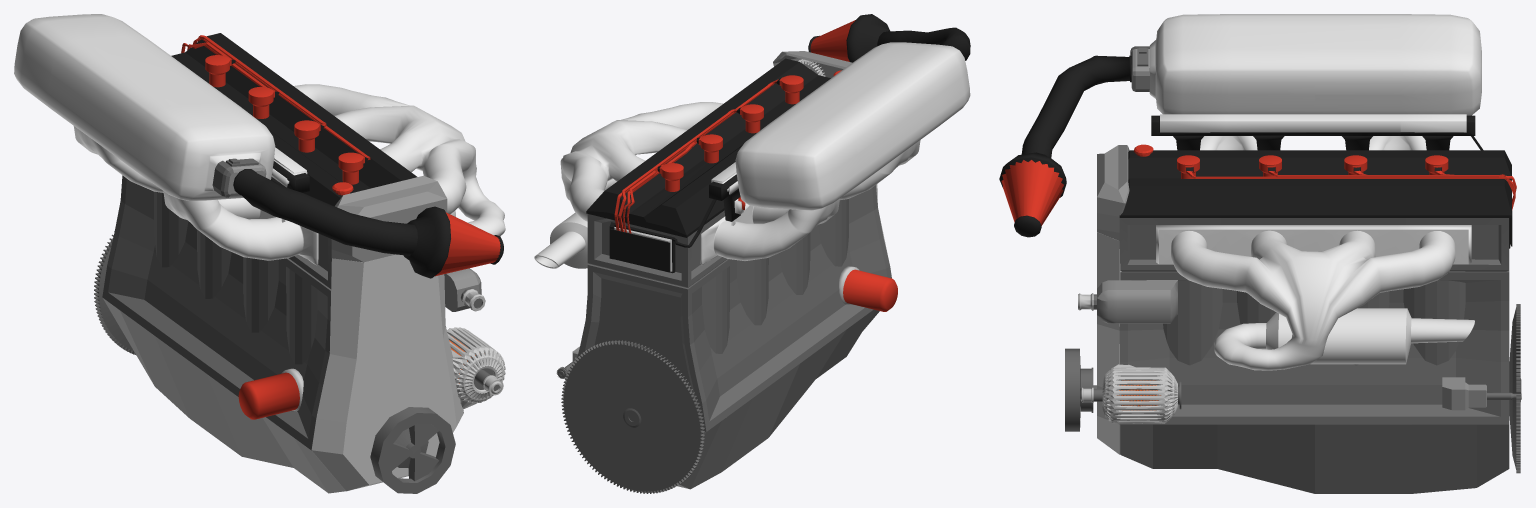
Rendered from 4L.blend-8v.fbx.
3 views of the same model, side by side, from view 1: azimuth 30°, elevation 25°; view 2: azimuth 150°, elevation 25°; view 3: azimuth 270°, elevation 25° (orthographic). The views are drawn at different scales.
Parts seen in each view (by area): view 1: ColetorDeAr, Bloco, capa da correia dentada, filtroDeAr, coletor escape, tambpa do motor, carter, Cylinder, capa da correia de cima, carcaa alternador, filtro de leo, cabo de vela (+10 smaller); view 2: Bloco, ColetorDeAr, VolanteDoMotor, tambpa do motor, coletor escape, carter, cabeçote, filtroDeAr, mdulo eletronico, filtro de leo, cabo de vela, trilho de injetores (+5 smaller); view 3: Bloco, ColetorDeAr, coletor escape, tambpa do motor, carter, trilho de injetores, filtroDeAr, cabeçote, carcaa alternador, BOMBA agua, capa da correia dentada, capa da correia de cima (+6 smaller).
Boxes of the visible parts, x1,y1,x2,y2 form: ColetorDeAr: [14, 14, 318, 265]; Bloco: [102, 175, 463, 450]; capa da correia dentada: [311, 254, 463, 491]; filtroDeAr: [233, 169, 503, 278]; coletor escape: [294, 84, 505, 235]; tambpa do motor: [171, 33, 416, 206]; carter: [103, 298, 345, 493]; Cylinder: [370, 407, 455, 493]; capa da correia de cima: [331, 175, 447, 262]; carcaa alternador: [446, 327, 505, 409]; filtro de leo: [238, 368, 303, 419]; cabo de vela: [181, 35, 370, 161]; Bloco: [577, 185, 891, 431]; ColetorDeAr: [700, 42, 970, 265]; VolanteDoMotor: [561, 340, 704, 493]; tambpa do motor: [586, 58, 841, 237]; coletor escape: [534, 102, 723, 268]; carter: [677, 309, 879, 489]; cabeçote: [587, 210, 726, 287]; filtroDeAr: [808, 14, 970, 62]; mdulo eletronico: [609, 199, 716, 273]; filtro de leo: [839, 266, 897, 311]; cabo de vela: [614, 78, 780, 233]; trilho de injetores: [709, 162, 745, 225]; Bloco: [1119, 249, 1509, 424]; ColetorDeAr: [1149, 14, 1481, 150]; coletor escape: [1156, 225, 1474, 370]; tambpa do motor: [1119, 144, 1511, 217]; carter: [1120, 424, 1509, 493]; trilho de injetores: [1151, 114, 1475, 150]; filtroDeAr: [999, 55, 1131, 237]; cabeçote: [1119, 218, 1508, 271]; carcaa alternador: [1102, 364, 1177, 423]; BOMBA agua: [1097, 280, 1177, 323]; capa da correia dentada: [1097, 232, 1121, 454]; capa da correia de cima: [1097, 145, 1129, 240].
Bounding box in the file's own units: 146 × 151 × 187.
